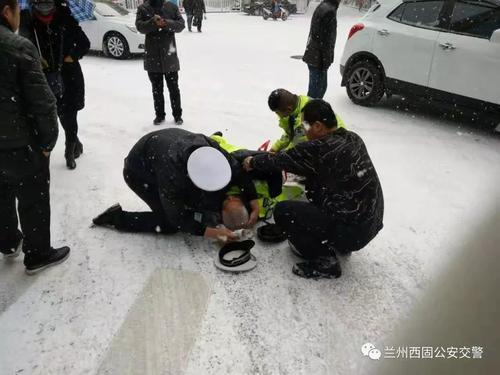Fall-Detected: (201, 126, 288, 240)
